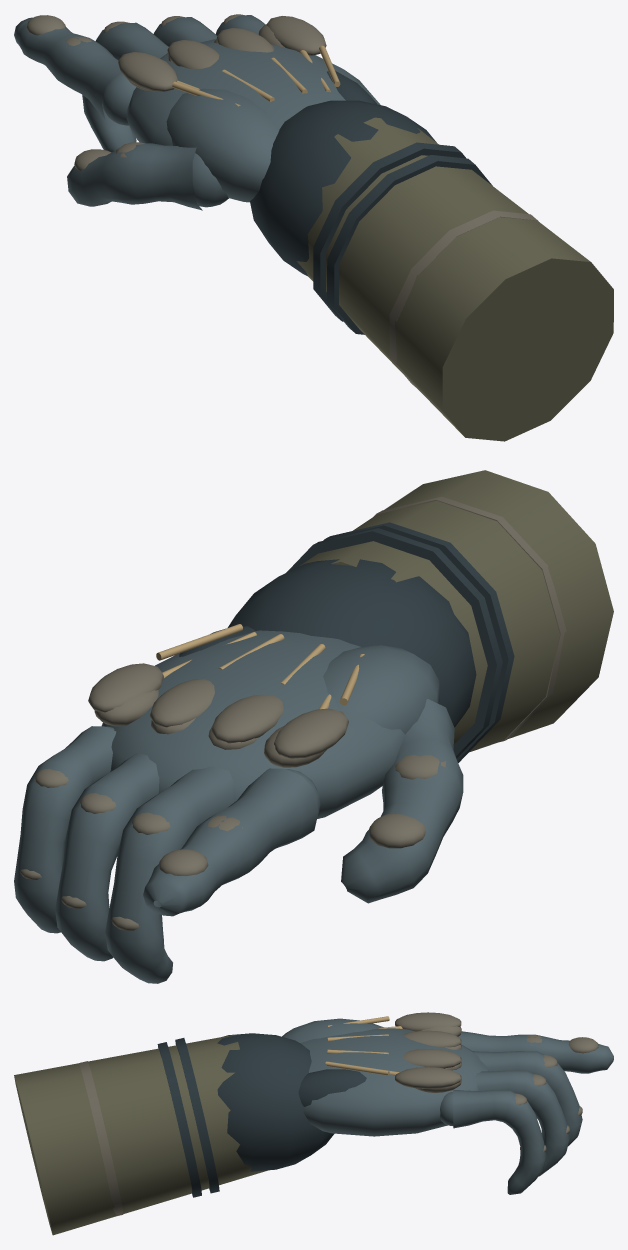
File: glove_press.glb
3 renders of one model, top to bottom at view 1: azimuth 30°, elevation 25°; view 2: azimuth 150°, elevation 25°; view 3: azimuth 270°, elevation 25°, orthographic. The views are drawn at different scales.
Bounding box in the file's own units: 0.1448 × 0.1087 × 0.3343.
